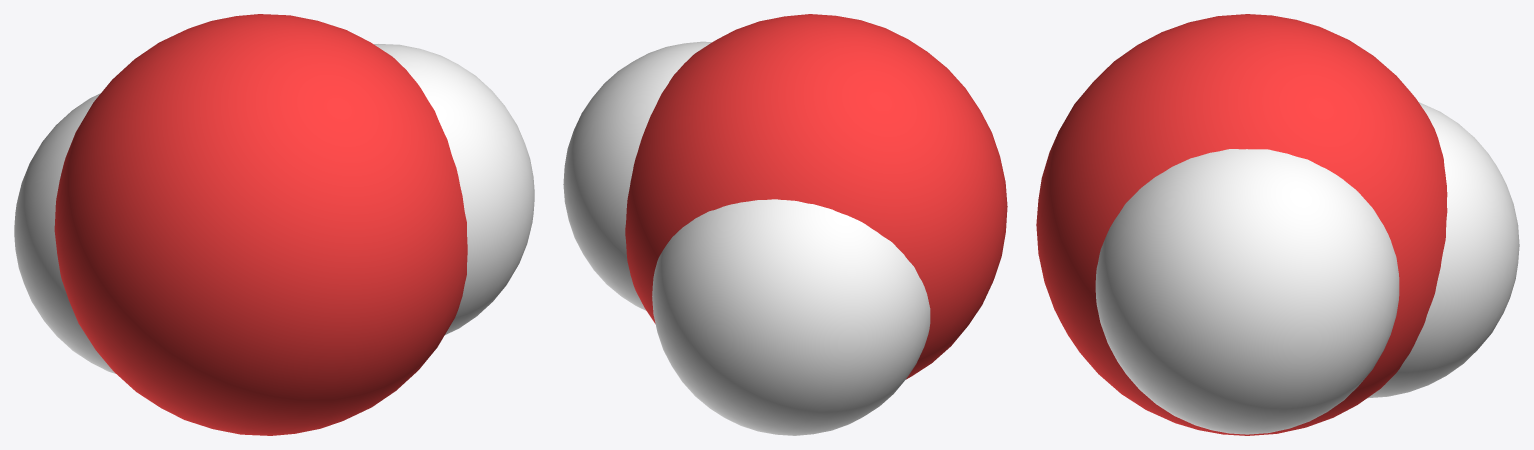
The model's file is water-molecule-spherical-model_-_copy.glb.
The picture shows the model from 3 angles, left to right: view 1: azimuth 30°, elevation 25°; view 2: azimuth 150°, elevation 25°; view 3: azimuth 270°, elevation 25°; orthographic projection. The views are drawn at different scales.
Visible parts, largest first — view 1: water_sphere_0; view 2: water_sphere_0; view 3: water_sphere_0.
Part boxes in pixels (x1,y1,x2,y2): water_sphere_0: (14,14,534,435); water_sphere_0: (563,14,1007,435); water_sphere_0: (1036,14,1519,435).
Size of the model in its own units: 3.59 by 3.04 by 3.48.
